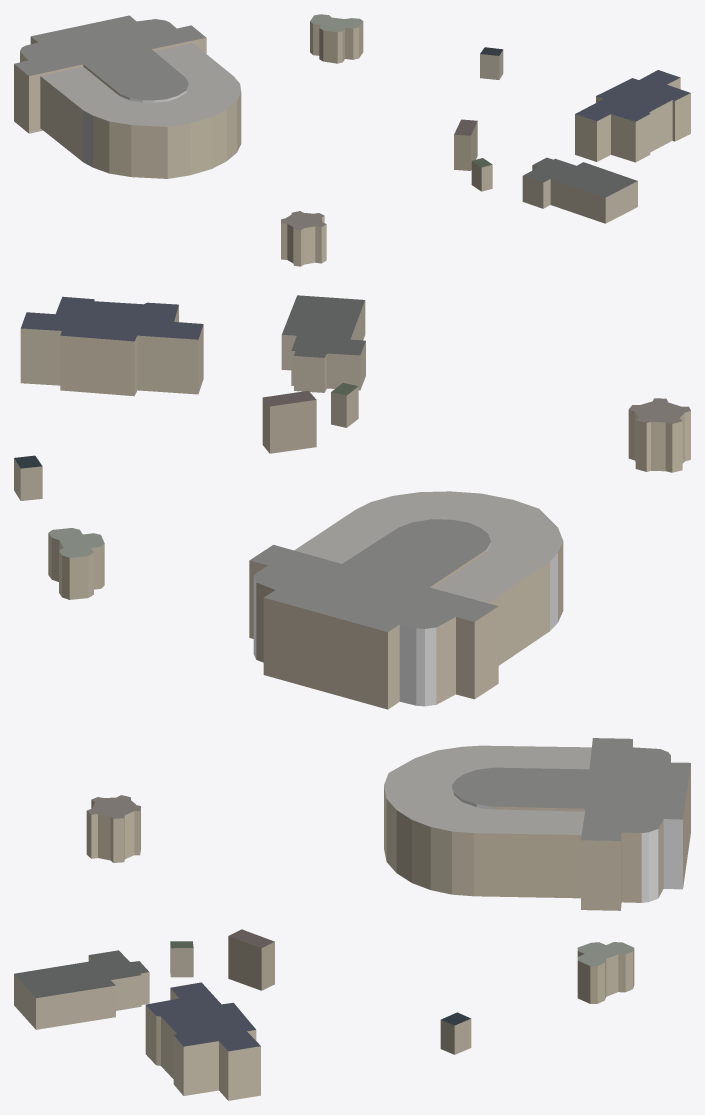
The picture shows the model from 3 angles, top to bottom: view 1: azimuth 30°, elevation 25°; view 2: azimuth 150°, elevation 25°; view 3: azimuth 270°, elevation 25°; orthographic projection. The views are drawn at different scales.
Visible parts, largest first — view 1: tuile; view 2: tuile; view 3: tuile.
Part boxes in pixels (x1=…): tuile: x1=14, y1=14, x2=690, y2=266; tuile: x1=14, y1=295, x2=690, y2=709; tuile: x1=14, y1=738, x2=690, y2=1100.
Size of the model in its own units: 105 by 11.55 by 101.
